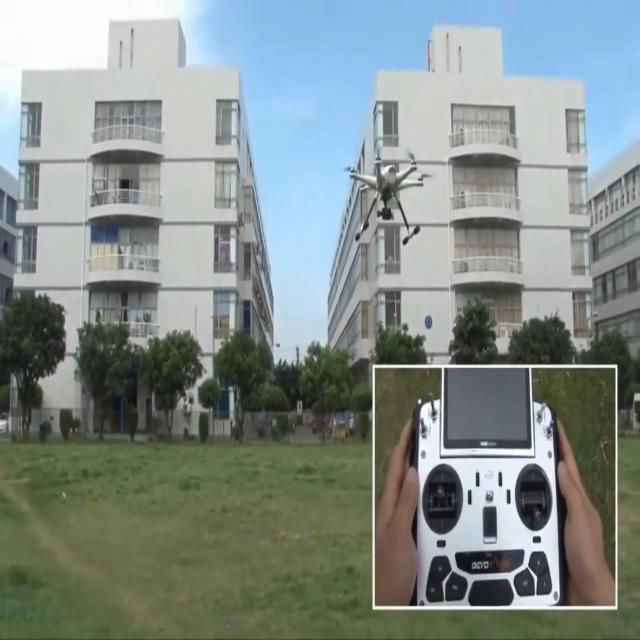drone: (342, 138, 432, 246)
